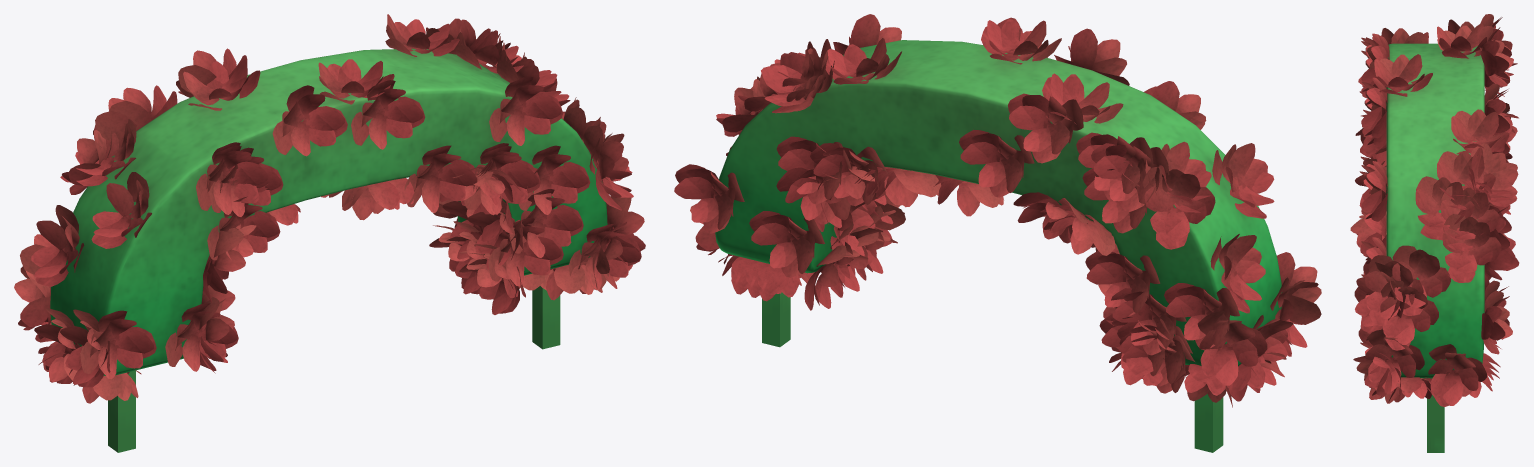
The model's file is Arch.fbx.
3 renders of one model, left to right at view 1: azimuth 30°, elevation 25°; view 2: azimuth 150°, elevation 25°; view 3: azimuth 270°, elevation 25°, orthographic. The views are drawn at different scales.
Visible parts, largest first — view 1: Arch; view 2: Arch; view 3: Arch.
Part boxes in pixels (<box>): Arch: <box>14,14,645,452</box>; Arch: <box>674,14,1321,452</box>; Arch: <box>1350,14,1519,452</box>.
Size of the model in its own units: 18.63 by 10.81 by 5.55.
